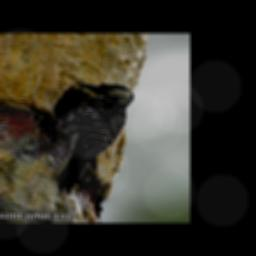Woodpecker: (37, 81, 136, 196)
